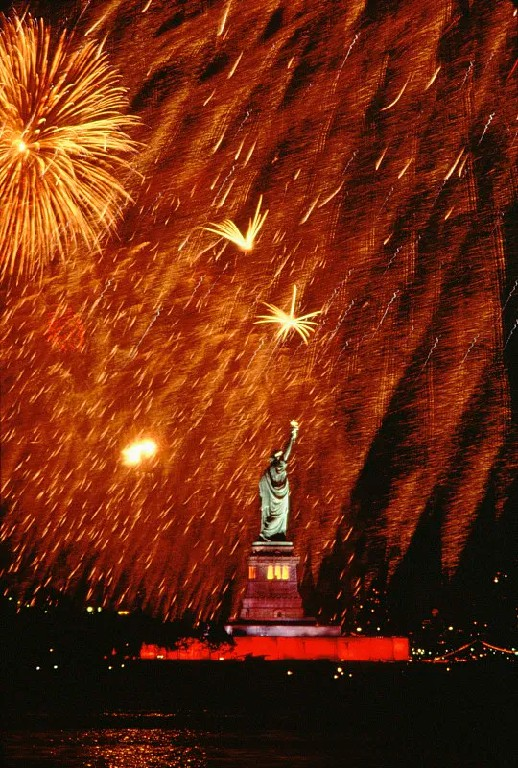SL: (242, 418, 305, 622)
